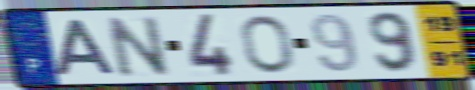4: (185, 12, 236, 79)
9: (365, 10, 420, 74), (308, 12, 361, 75)
A: (51, 18, 120, 78)
N: (102, 14, 173, 79)
O: (238, 13, 297, 75)
